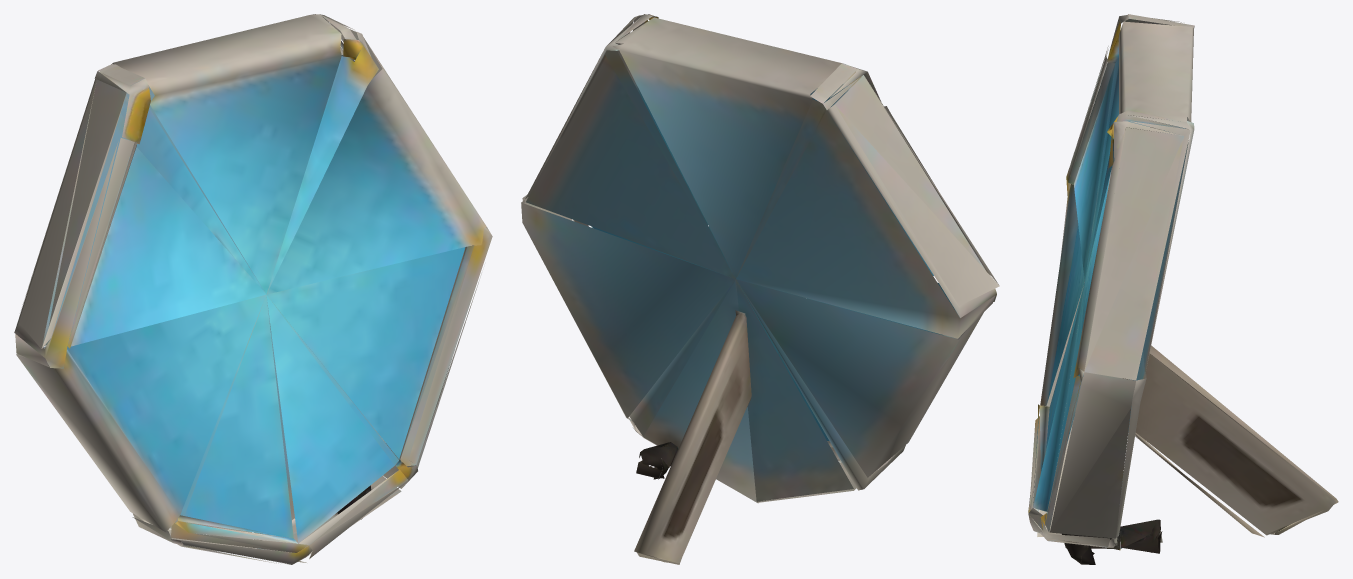
Rendered from f_shield_round_lod1.fbx.
The picture shows the model from 3 angles, left to right: view 1: azimuth 30°, elevation 25°; view 2: azimuth 150°, elevation 25°; view 3: azimuth 270°, elevation 25°; orthographic projection. The views are drawn at different scales.
Visible parts, largest first — view 1: tripo_node_a8fd26a4-aa6a-4b1a-83a8-aaf61f5c5400; view 2: tripo_node_a8fd26a4-aa6a-4b1a-83a8-aaf61f5c5400; view 3: tripo_node_a8fd26a4-aa6a-4b1a-83a8-aaf61f5c5400.
Part boxes in pixels (x1,y1,x2,y2): tripo_node_a8fd26a4-aa6a-4b1a-83a8-aaf61f5c5400: (14, 14, 492, 564); tripo_node_a8fd26a4-aa6a-4b1a-83a8-aaf61f5c5400: (521, 14, 999, 564); tripo_node_a8fd26a4-aa6a-4b1a-83a8-aaf61f5c5400: (1028, 14, 1338, 564).
Bounding box in the file's own units: 0.7705 × 0.7826 × 0.4671.
